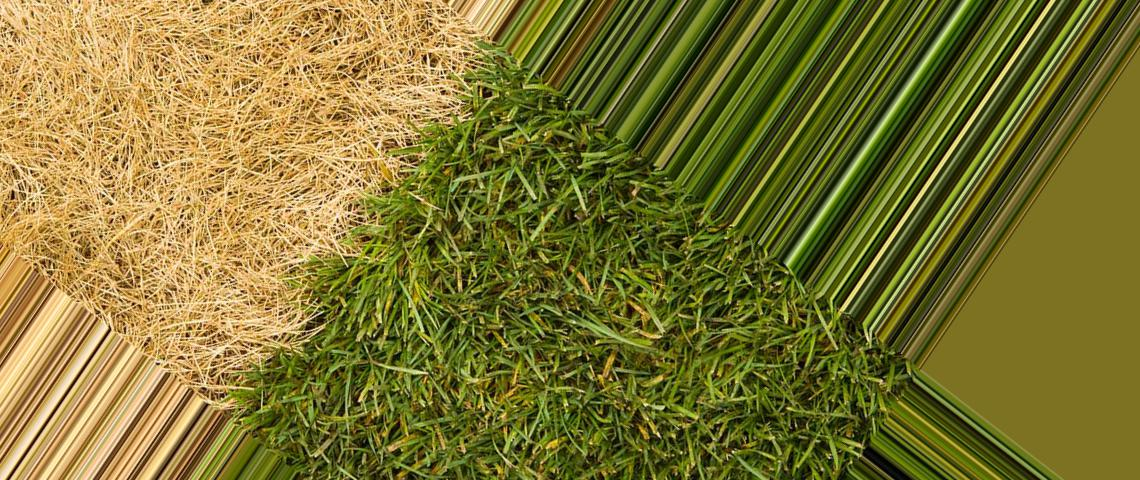patch: (91, 52, 308, 164), (54, 192, 247, 305), (321, 24, 416, 117), (261, 192, 332, 273), (14, 46, 75, 136)
